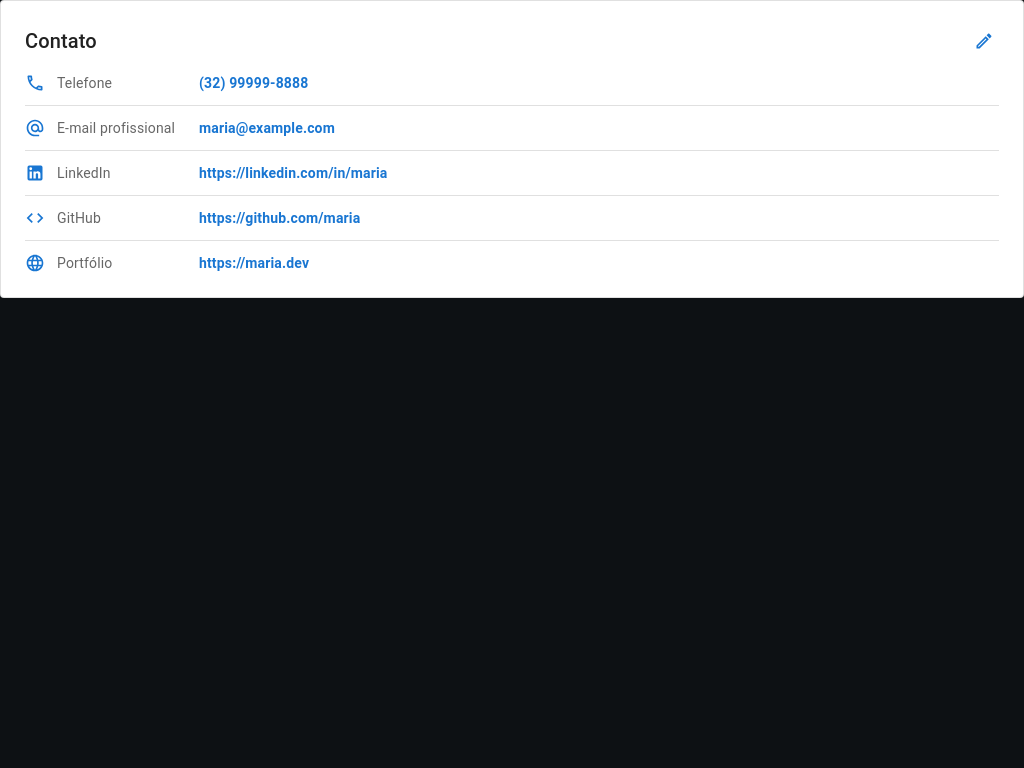
Scenario: ContatoSection form › closes without saving when the user cancels
The image size is (1024, 768).
Click the button named "Editar contato". click: (984, 41)
box: [969,26,999,56]
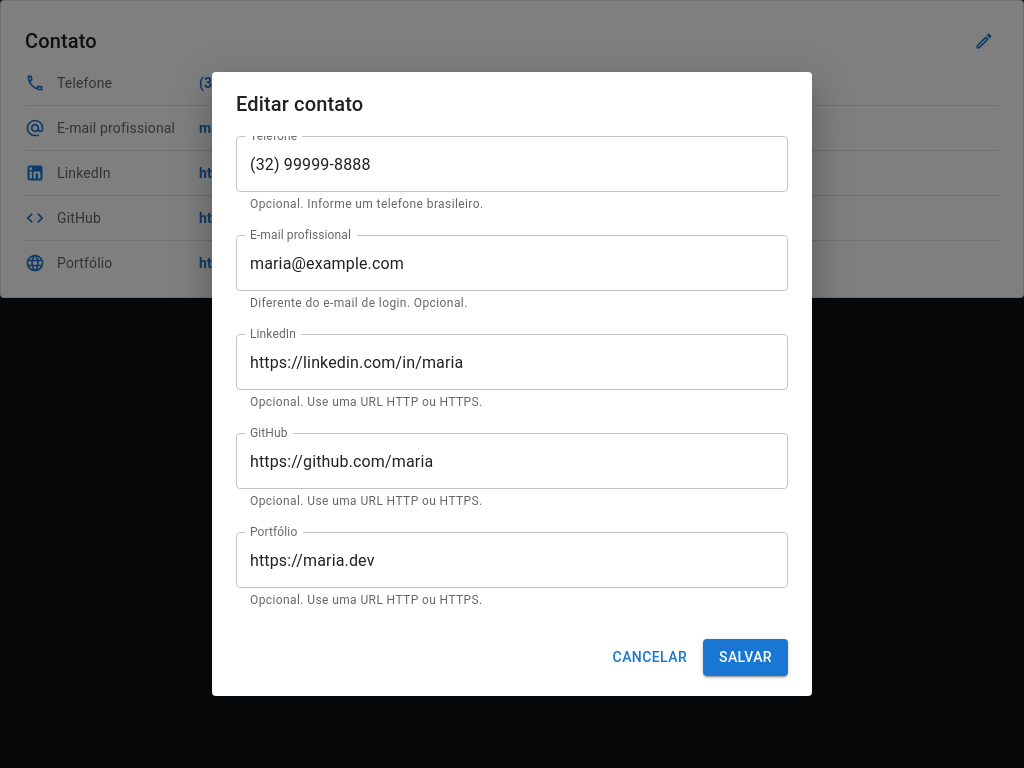
Click the button "Cancelar". click: (650, 657)
box: [605,639,695,676]
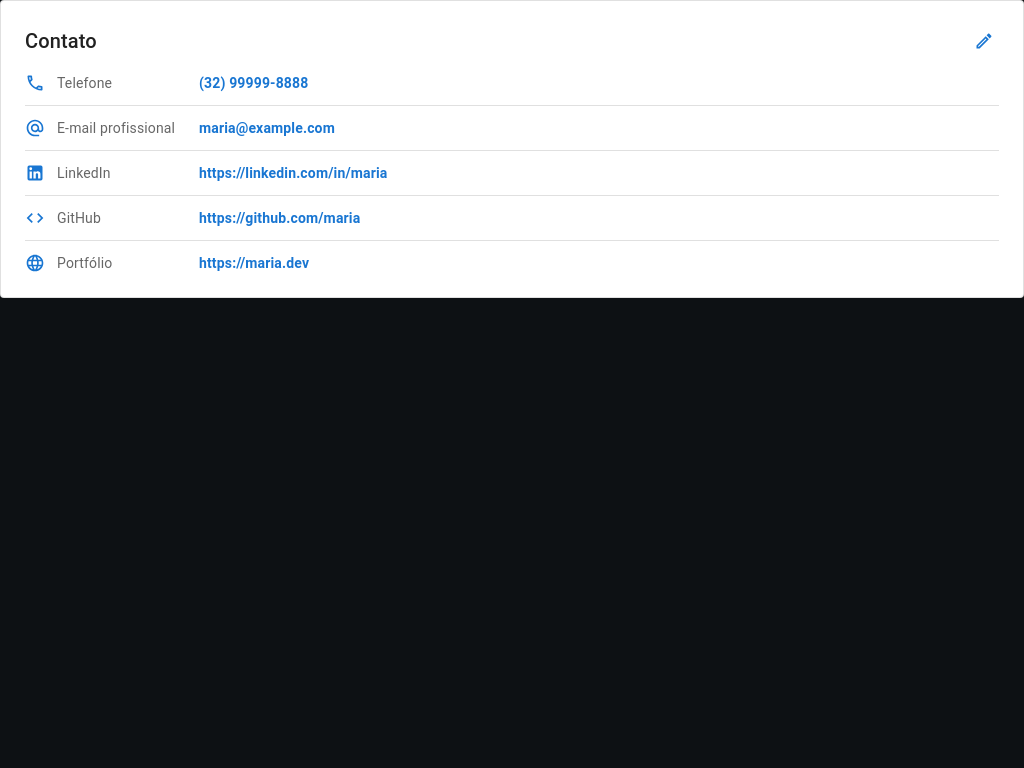
Expected: the dialog is gone
